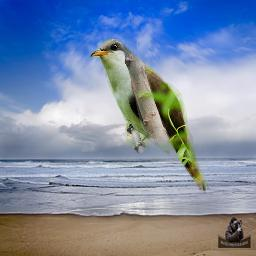Cuckoo: (86, 39, 214, 192)
